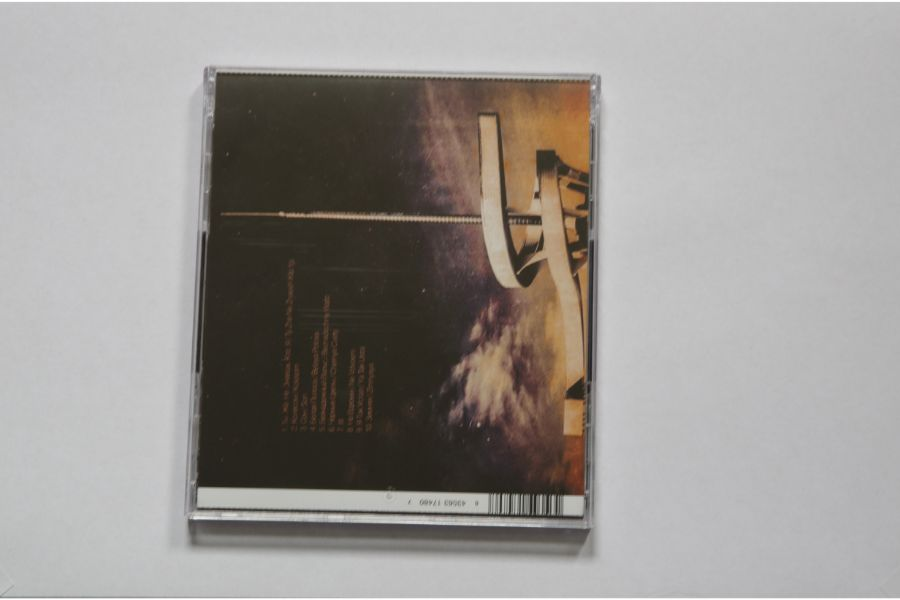album: (177, 65, 602, 532)
